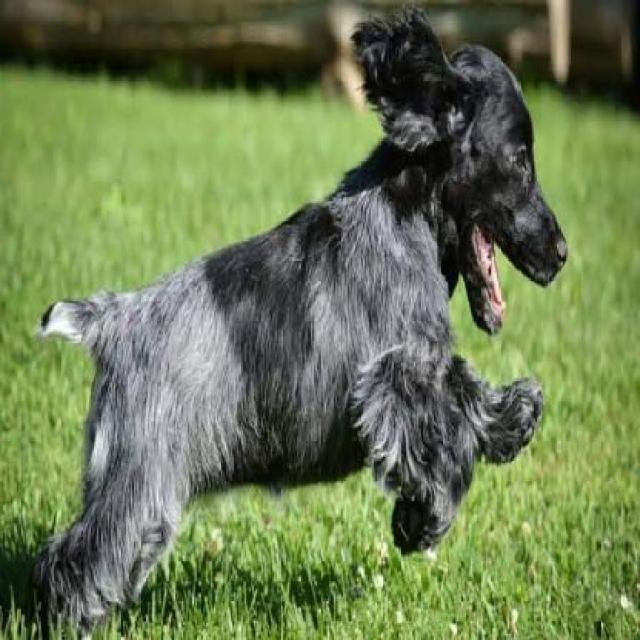animals: (32, 0, 570, 640)
